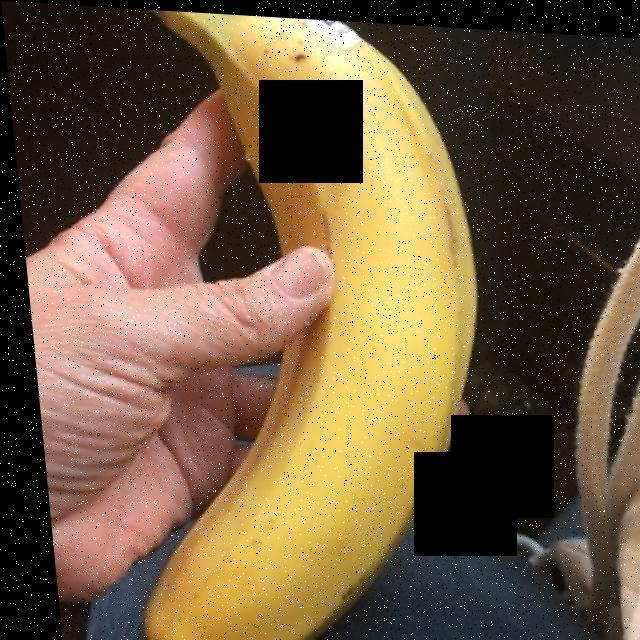banana: (122, 14, 470, 633)
